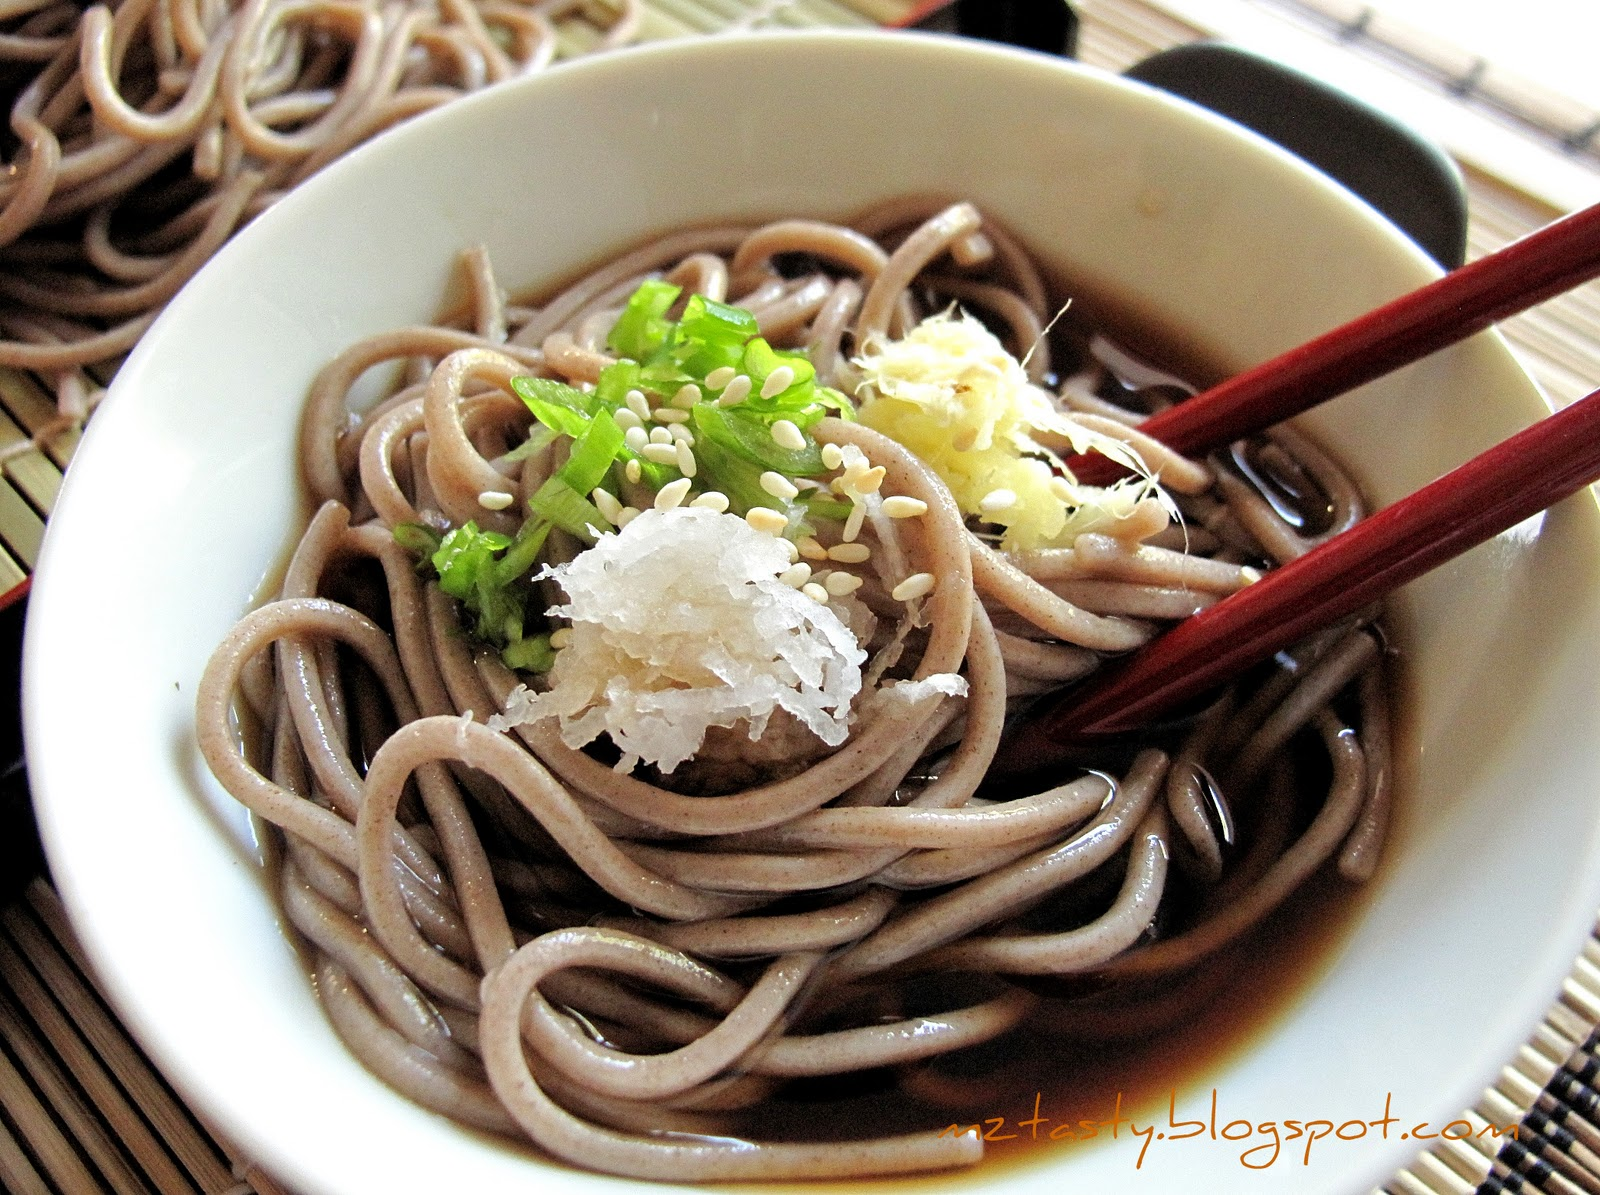Soba: (218, 178, 1397, 1172)
